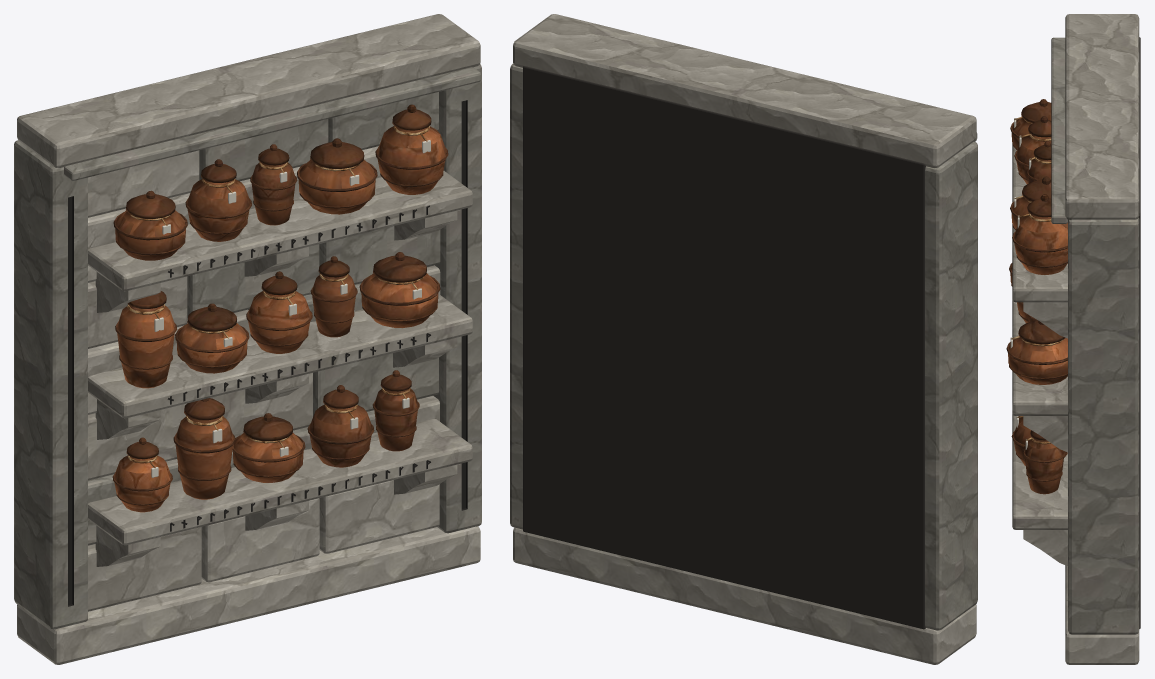
Rendered from qb_urn_shelves.glb.
3 renders of one model, left to right at view 1: azimuth 30°, elevation 25°; view 2: azimuth 150°, elevation 25°; view 3: azimuth 270°, elevation 25°, orthographic. The views are drawn at different scales.
Parts seen in each view (by area): view 1: model; view 2: model; view 3: model.
Part boxes in pixels (box(x1,y1,x2,y2)): model: box(14, 14, 481, 664); model: box(510, 14, 977, 664); model: box(1006, 14, 1140, 664).
Bounding box in the file's own units: 1.6 × 1.85 × 0.4807.
11 materials, 8 textured.
